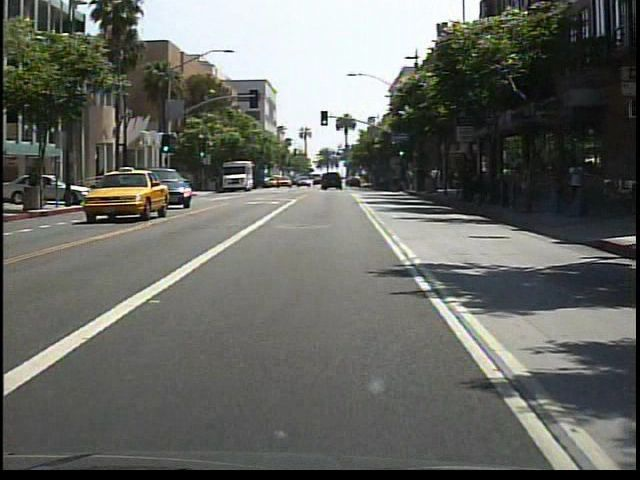person: (566, 154, 590, 192)
